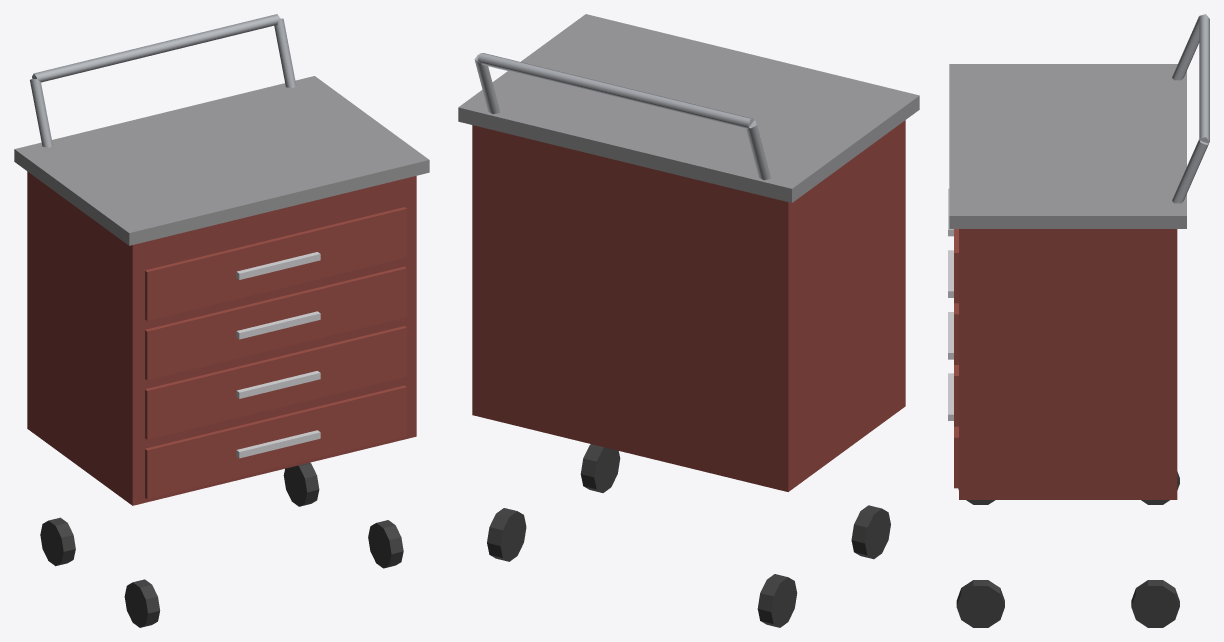
The model's file is garage_tool_cart_a.glb.
The picture shows the model from 3 angles, left to right: view 1: azimuth 30°, elevation 25°; view 2: azimuth 150°, elevation 25°; view 3: azimuth 270°, elevation 25°; orthographic projection. The views are drawn at different scales.
Visible parts, largest first — view 1: body; view 2: body; view 3: body.
Boxes of the visible parts, left/top/right/bottom form: body: left=14, top=14, right=429, bottom=627; body: left=458, top=14, right=919, bottom=627; body: left=948, top=14, right=1209, bottom=627.
Size of what is drawn, in the model's own units: 0.74 by 1.11 by 0.5395.
